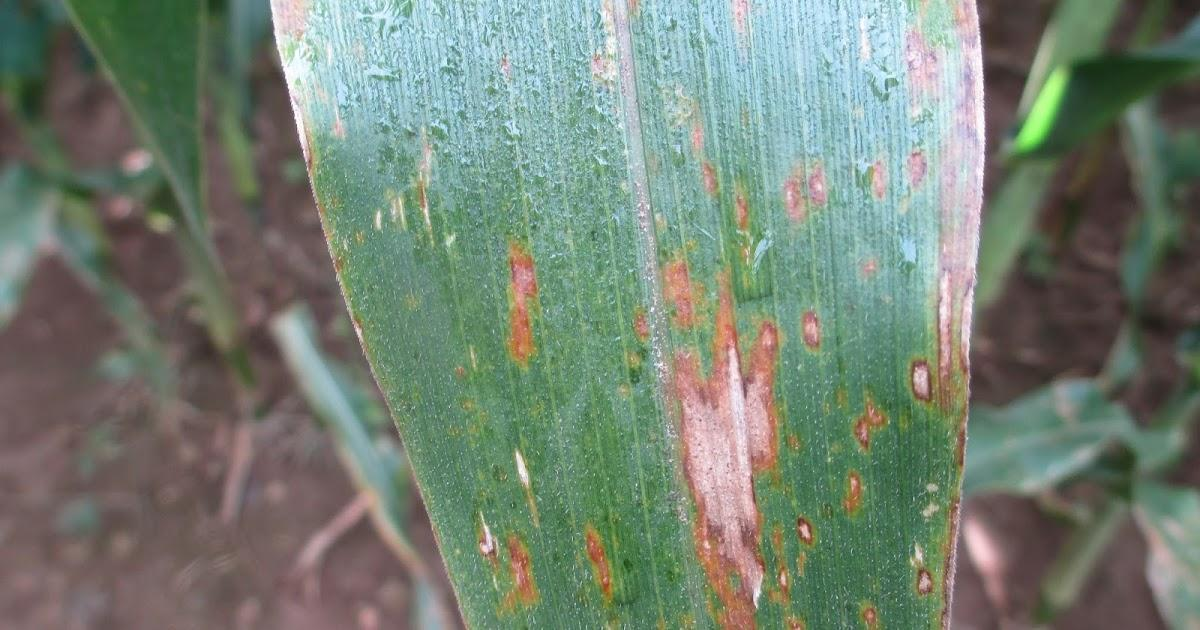Gray_Leaf_Spot: (664, 336, 788, 490), (931, 179, 979, 460), (682, 498, 767, 627), (940, 0, 998, 168), (494, 234, 540, 361), (938, 462, 968, 627), (659, 239, 705, 342), (278, 46, 315, 172), (675, 78, 714, 191), (591, 0, 644, 80), (404, 117, 436, 237), (489, 547, 542, 616), (634, 153, 669, 250), (257, 0, 321, 51), (765, 513, 802, 600), (707, 280, 751, 353), (324, 220, 372, 285), (793, 290, 834, 361), (579, 520, 623, 584), (779, 165, 829, 218), (829, 473, 875, 523), (514, 437, 537, 531), (855, 384, 890, 442), (457, 510, 505, 552), (894, 354, 935, 402), (839, 250, 887, 291), (908, 11, 924, 128), (726, 170, 756, 230), (583, 616, 705, 630), (724, 228, 758, 276), (862, 156, 892, 204), (901, 151, 931, 197), (754, 322, 779, 377), (303, 177, 333, 221), (386, 182, 411, 232), (910, 475, 938, 519), (457, 402, 487, 443), (349, 290, 367, 354), (906, 551, 929, 597), (457, 338, 478, 386), (728, 0, 749, 46), (324, 108, 352, 142), (797, 506, 815, 556), (736, 97, 754, 145), (627, 305, 655, 335), (848, 602, 876, 630), (611, 354, 655, 370), (853, 20, 871, 55), (767, 613, 811, 625), (607, 388, 634, 402), (500, 52, 512, 82), (402, 291, 418, 310), (828, 391, 855, 400)
